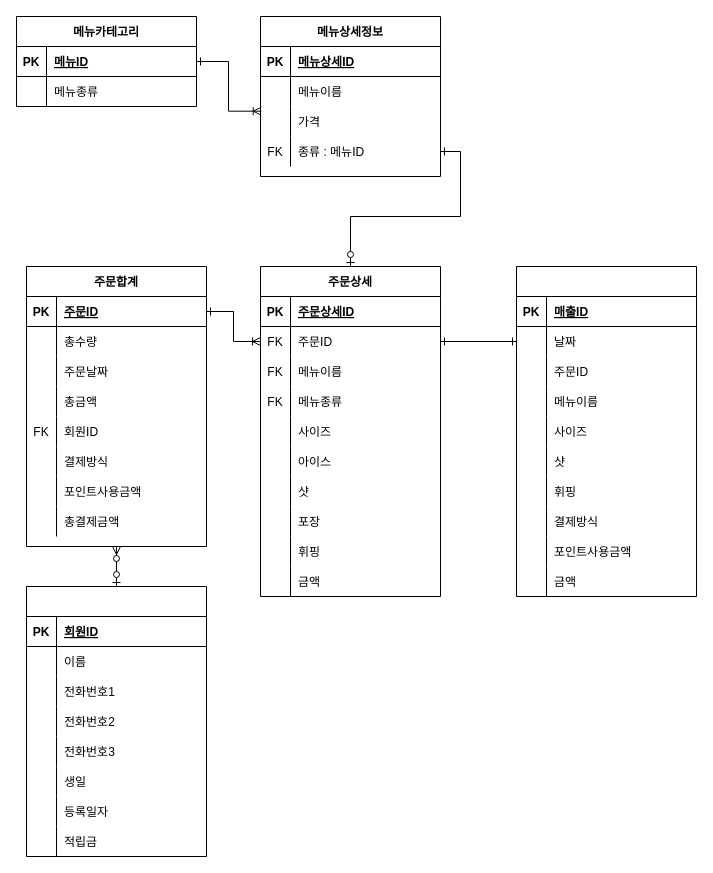
Image size: 713x873. Some labels were removed from this diagram. The shapes that lost their labels are listed below. From the top down, each one's box as (x1, y1, x2, y2) in pixels, then its label:
(516, 266, 696, 596): 매출
(26, 586, 206, 856): 회원
